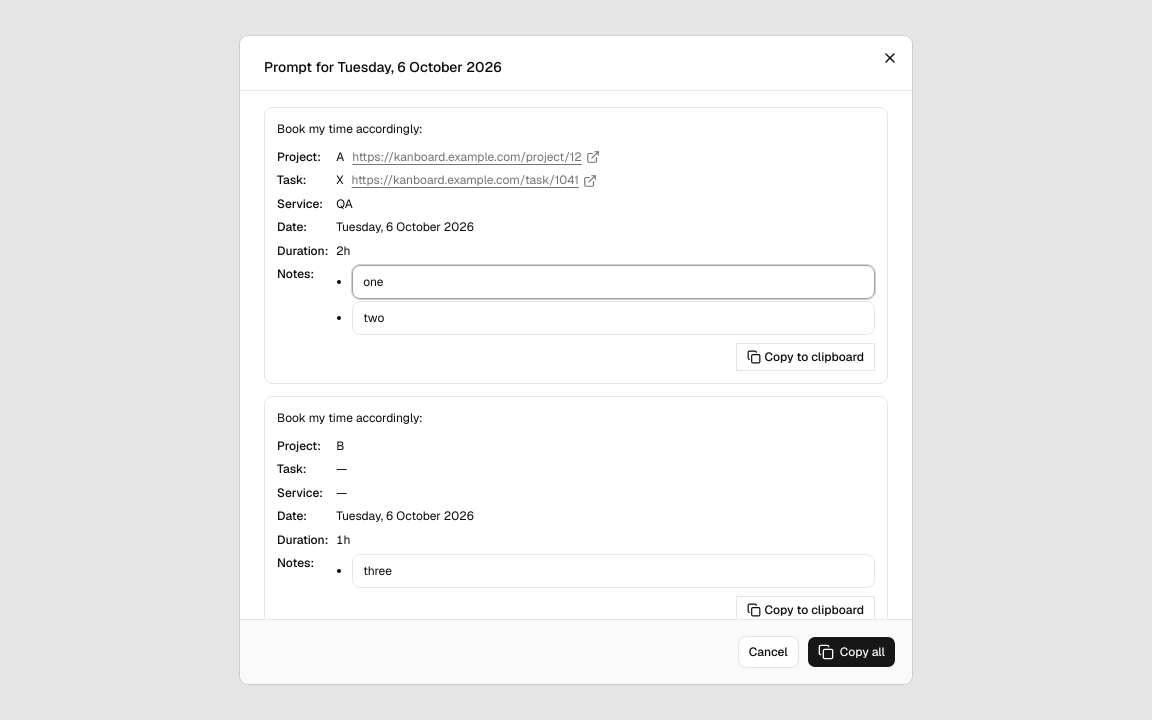
Test case: Prompt dialog (feat-tlog-prompt) › AC-9 FR-TLOG-020 (+ AC-21 feat-prj-services): Copy all copies every section with the cached links, leaving out a link not loaded yet
expect the link "https://kanboard.example.com/task/1041" is shown: met, box [352,171,597,190]
expect the link "https://kanboard.example.com/project/12" is shown: met, box [352,148,600,167]
Click the button "Copy all".
click(851, 652)  # box [807,636,896,668]
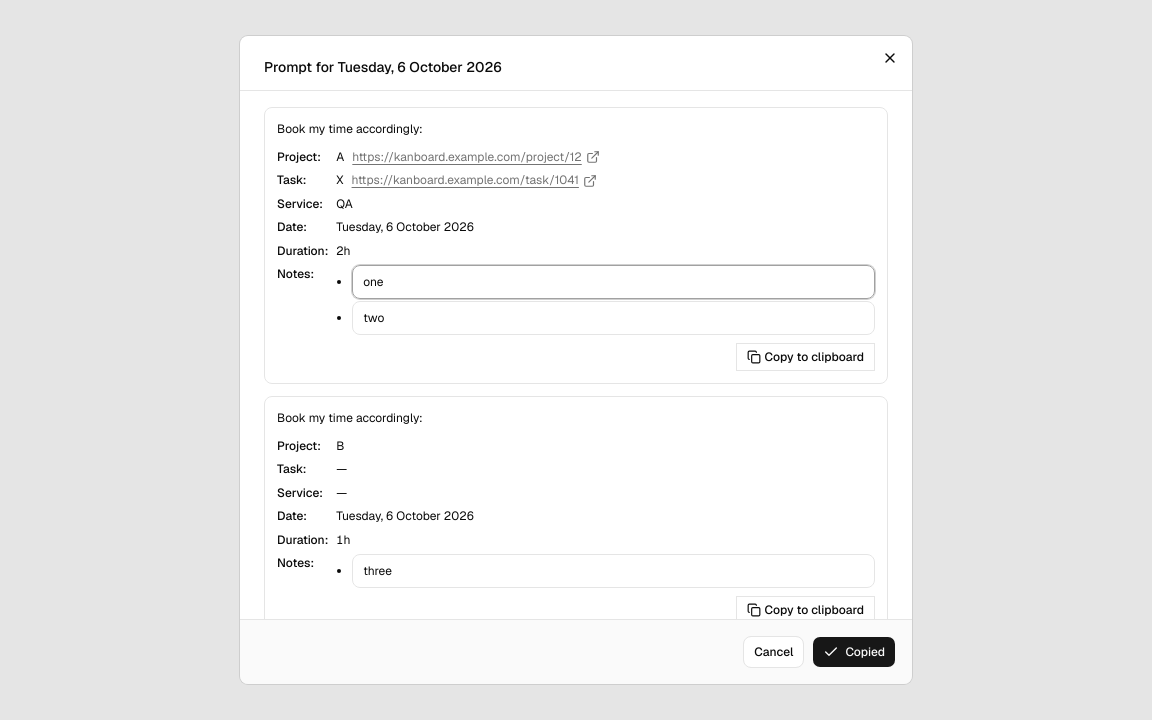
expect the button "Copied" is shown: met, box [812,636,896,668]
